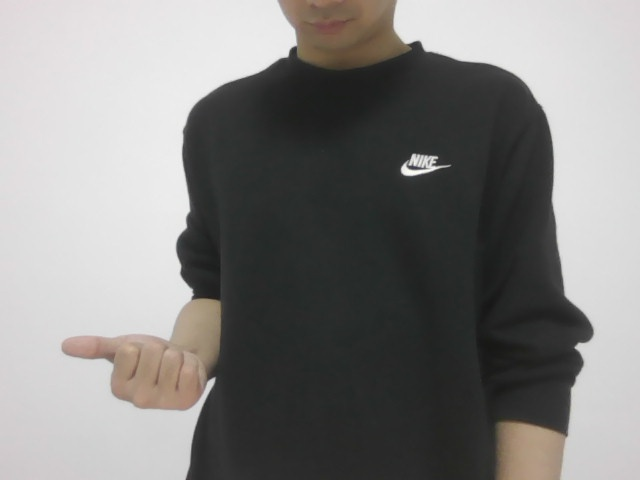have: (46, 318, 213, 420)
